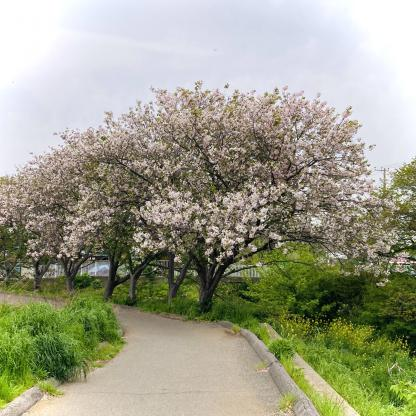YaeSakura: (180, 79, 405, 286), (22, 129, 99, 259), (148, 83, 196, 264), (108, 97, 158, 262), (82, 112, 124, 266), (0, 170, 60, 268)
